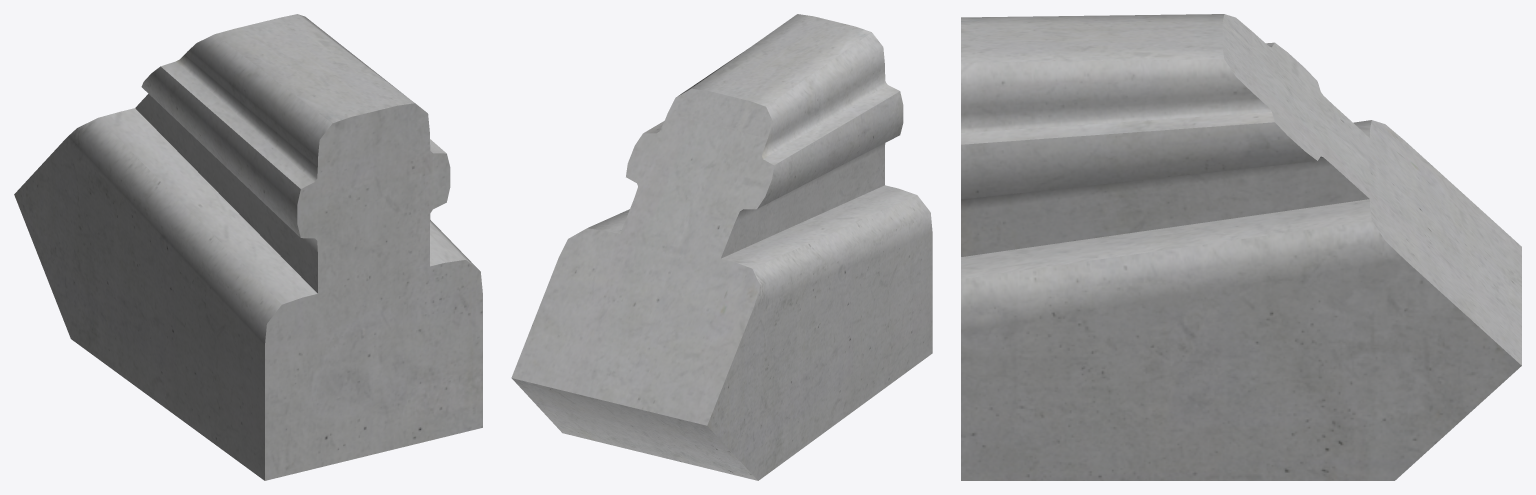
Rendered from ConcreteSafetyConnectorEnd.fbx.
3 renders of one model, left to right at view 1: azimuth 30°, elevation 25°; view 2: azimuth 150°, elevation 25°; view 3: azimuth 270°, elevation 25°, orthographic. The views are drawn at different scales.
Parts seen in each view (by area): view 1: ConcreteSafetyConnectorEnd; view 2: ConcreteSafetyConnectorEnd; view 3: ConcreteSafetyConnectorEnd.
Part boxes in pixels (x1=…): ConcreteSafetyConnectorEnd: x1=14, y1=14, x2=482, y2=480; ConcreteSafetyConnectorEnd: x1=511, y1=14, x2=932, y2=480; ConcreteSafetyConnectorEnd: x1=961, y1=14, x2=1521, y2=480.
Size of what is drawn, in the model's own units: 64.91 by 98.26 by 129.
